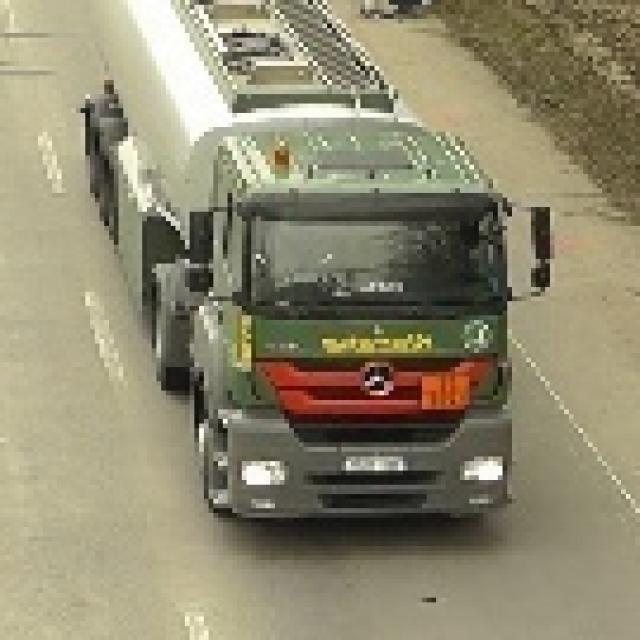truck: (72, 1, 546, 519)
